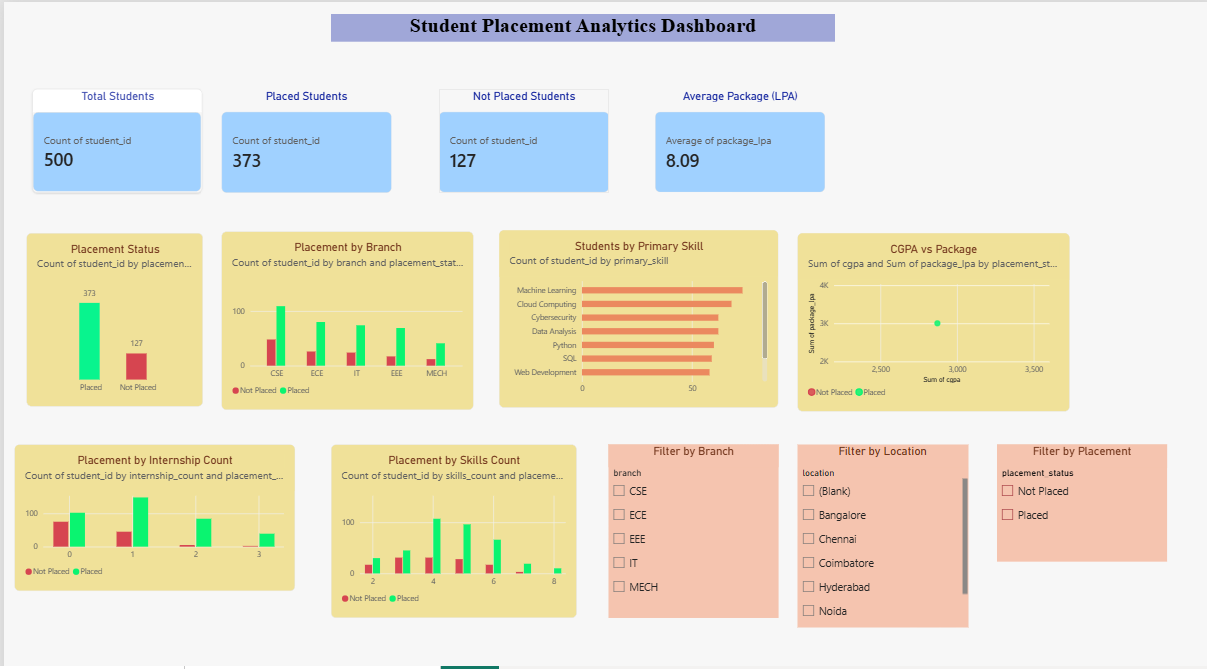

The page's visual inventory and layout, read from the dashboard file:
{"tool":"powerbi","page":{"name":"Placement Overview","canvas":[1920,1080],"ordinal":0},"visuals":[{"type":"textbox","box":[518,20,800,44],"z":0},{"type":"cardVisual","title":"Total Students","fields":{"Data":["Count(placement_cleaned_data.student_id)"]},"box":[45,137.5,269.6,164.6],"z":1000},{"type":"cardVisual","title":"Placed Students","fields":{"Data":["CountNonNull(placement_cleaned_data.student_id)"]},"box":[345,137.5,270,165],"z":2000},{"type":"cardVisual","title":"Not Placed Students","fields":{"Data":["CountNonNull(placement_cleaned_data.student_id)"]},"box":[690,137.5,270,164],"z":3000},{"type":"cardVisual","title":"Average Package (LPA)","fields":{"Data":["Avg(placement_cleaned_data.package_lpa)"]},"box":[1032.5,137.5,270,164],"z":4000},{"type":"clusteredColumnChart","title":"Placement Status","fields":{"Category":["placement_cleaned_data.placement_status"],"Y":["CountNonNull(placement_cleaned_data.student_id)"]},"box":[35,367.5,280,275],"z":5000},{"type":"clusteredColumnChart","title":"Placement by Branch","fields":{"Category":["placement_cleaned_data.branch"],"Series":["placement_cleaned_data.placement_status"],"Y":["CountNonNull(placement_cleaned_data.student_id)"]},"box":[345,365,400,283.3],"z":6000},{"type":"clusteredBarChart","title":"Students by Primary Skill","fields":{"Category":["placement_cleaned_data.primary_skill"],"Y":["CountNonNull(placement_cleaned_data.student_id)"]},"box":[785,362.5,443.3,281.7],"z":7000},{"type":"scatterChart","title":"CGPA vs Package","fields":{"Series":["placement_cleaned_data.placement_status"],"X":["Sum(placement_cleaned_data.cgpa)"],"Y":["Sum(placement_cleaned_data.package_lpa)"]},"box":[1260,367.5,431.7,283.3],"z":8000},{"type":"slicer","title":"Filter by Branch","fields":{"Values":["placement_cleaned_data.branch"]},"box":[960,702.5,270,275],"z":9000},{"type":"slicer","title":"Filter by Placement","fields":{"Values":["placement_cleaned_data.placement_status"]},"box":[1575,702.5,270,186],"z":10000},{"type":"slicer","title":"Filter by Location","fields":{"Values":["placement_cleaned_data.location"]},"box":[1260,702.5,270,290],"z":11000},{"type":"clusteredColumnChart","title":"Placement by Internship Count","fields":{"Category":["placement_cleaned_data.internship_count"],"Series":["placement_cleaned_data.placement_status"],"Y":["CountNonNull(placement_cleaned_data.student_id)"]},"box":[17.5,702.5,445,232.5],"z":12000},{"type":"clusteredColumnChart","title":"Placement by Skills Count","fields":{"Category":["placement_cleaned_data.skills_count"],"Series":["placement_cleaned_data.placement_status"],"Y":["CountNonNull(placement_cleaned_data.student_id)"]},"box":[520,702.5,390,275],"z":12001}]}

Visuals, with their boxes in screenshot pixels (x1, y1, x2, y2), scaled from the page's 1920x1080 canvas onto the 1207x669 screenshot:
textbox: [left=326, top=12, right=829, bottom=40]
"Total Students" cardVisual: [left=28, top=85, right=198, bottom=187]
"Placed Students" cardVisual: [left=217, top=85, right=387, bottom=187]
"Not Placed Students" cardVisual: [left=434, top=85, right=604, bottom=187]
"Average Package (LPA)" cardVisual: [left=649, top=85, right=819, bottom=187]
"Placement Status" clusteredColumnChart: [left=22, top=228, right=198, bottom=398]
"Placement by Branch" clusteredColumnChart: [left=217, top=226, right=468, bottom=402]
"Students by Primary Skill" clusteredBarChart: [left=493, top=225, right=772, bottom=399]
"CGPA vs Package" scatterChart: [left=792, top=228, right=1063, bottom=403]
"Filter by Branch" slicer: [left=604, top=435, right=773, bottom=606]
"Filter by Placement" slicer: [left=990, top=435, right=1160, bottom=550]
"Filter by Location" slicer: [left=792, top=435, right=962, bottom=615]
"Placement by Internship Count" clusteredColumnChart: [left=11, top=435, right=291, bottom=579]
"Placement by Skills Count" clusteredColumnChart: [left=327, top=435, right=572, bottom=606]
